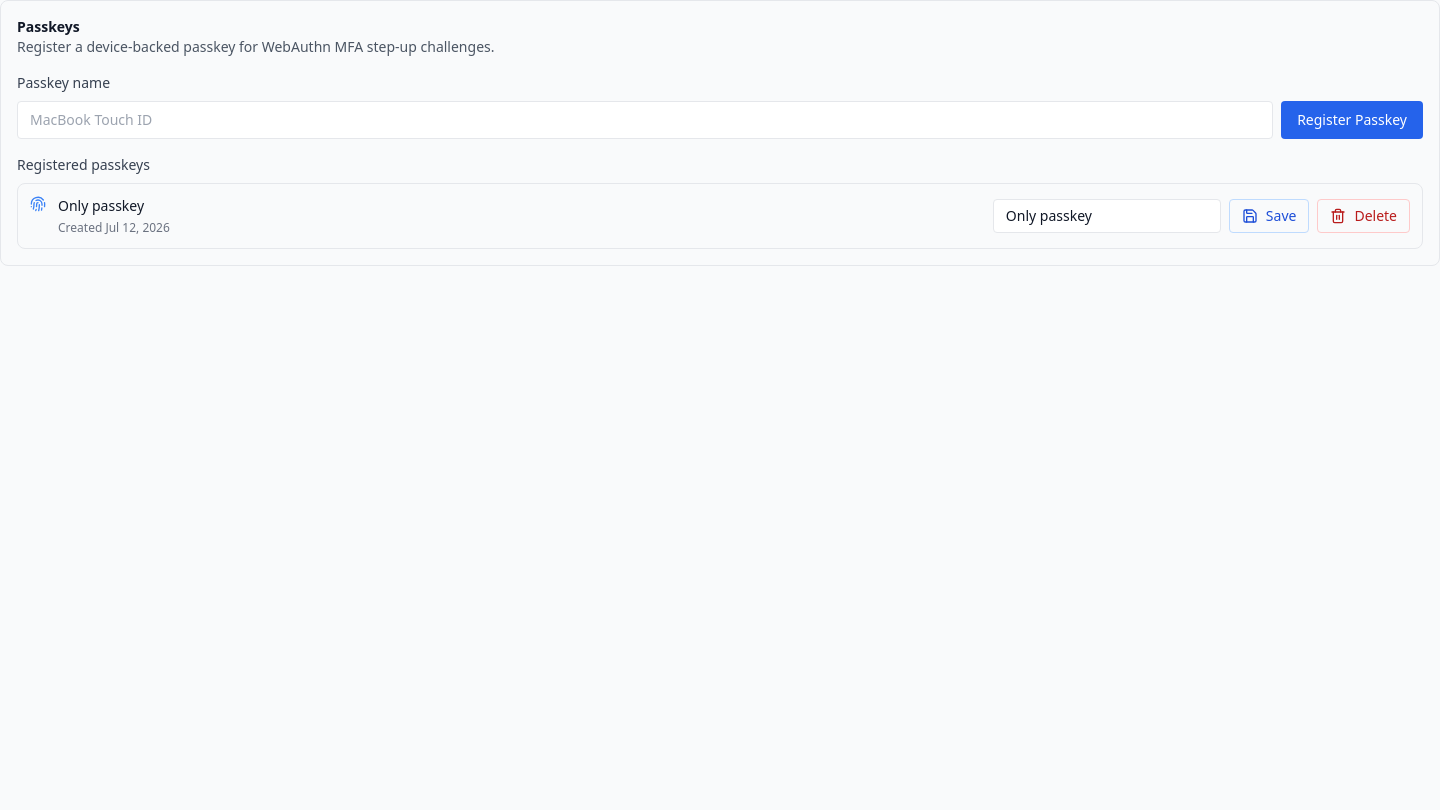
Passkeys component › keeps a final credential visible when delete is rejected by the backend
Click the button with test id "passkey-delete-button" at (1364, 216), box 1317,199 -> 1410,233
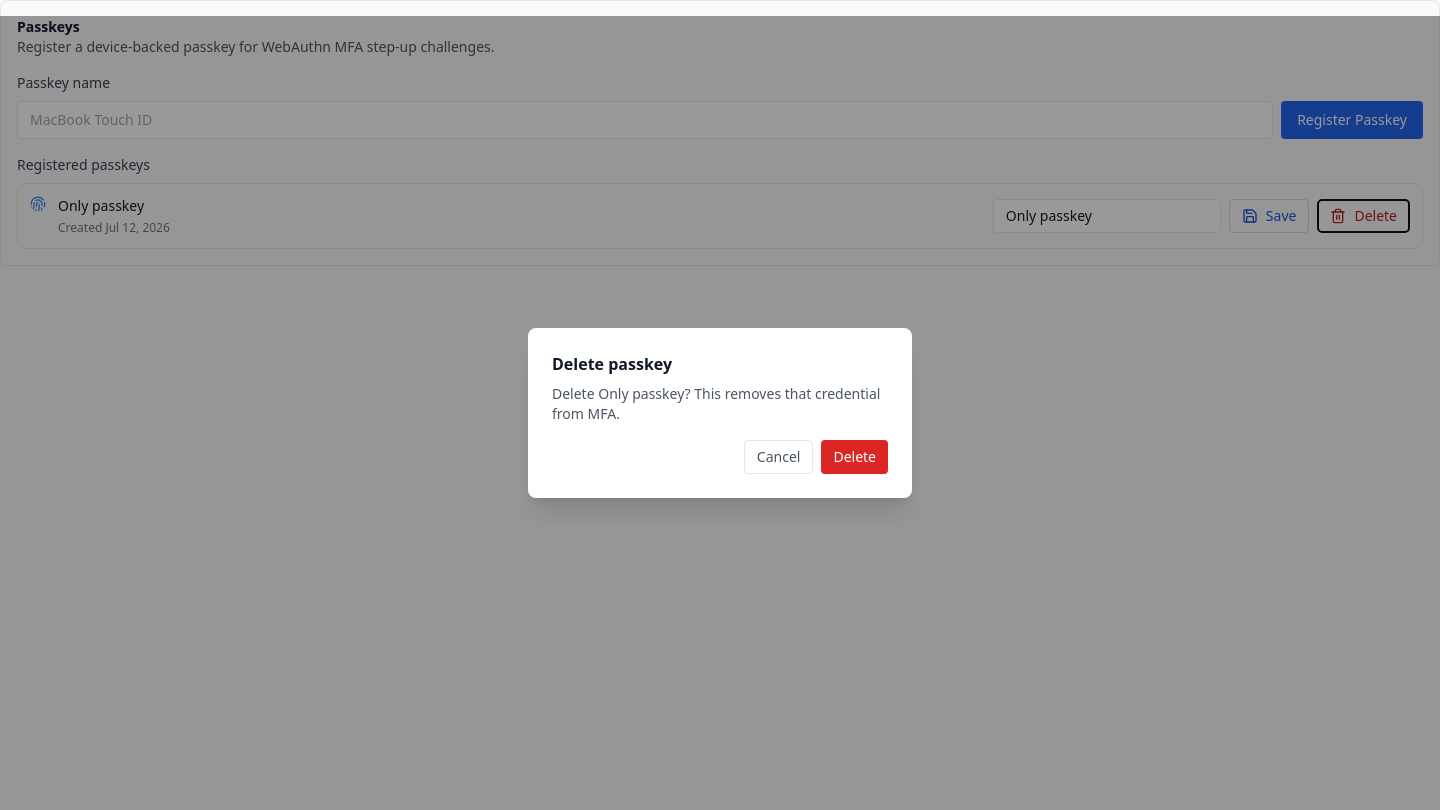
Click the button "Delete" at (855, 457), box 821,440 -> 888,474
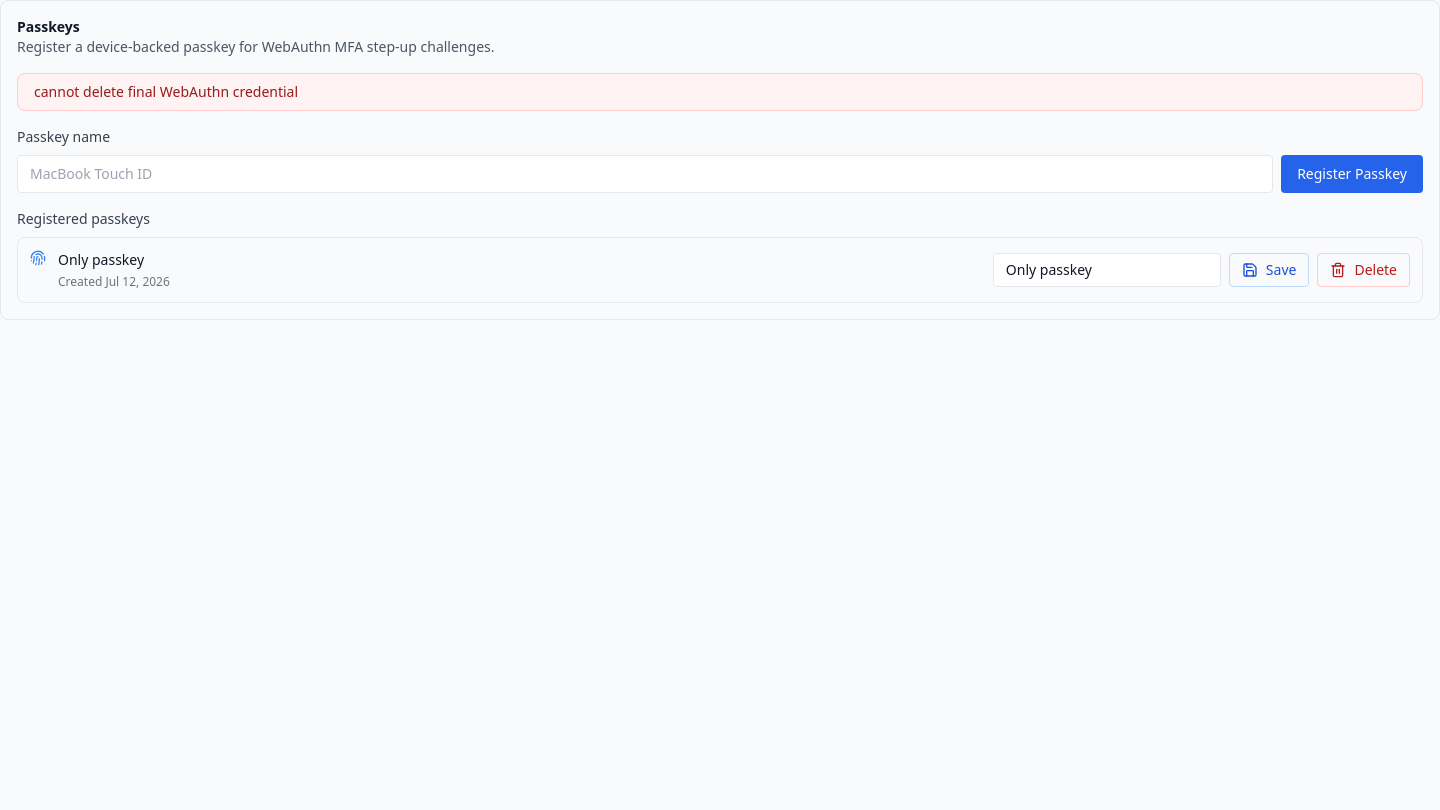
Expected: the element with test id "passkey-row-credential-final" is shown, 17,237 -> 1423,303
Now the text "cannot delete final WebAuthn credential" is shown, box 17,73 -> 1423,111
